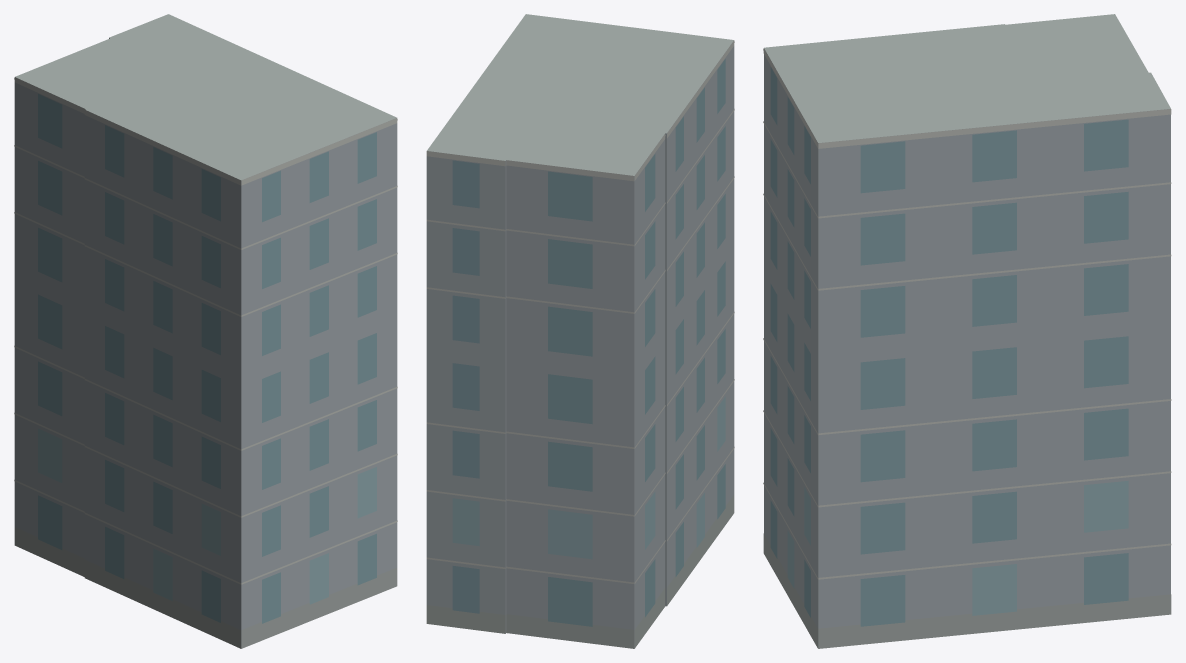
The model's file is survey-upis-32800072.glb.
The picture shows the model from 3 angles, left to right: view 1: azimuth 30°, elevation 25°; view 2: azimuth 150°, elevation 25°; view 3: azimuth 270°, elevation 25°; orthographic projection. The views are drawn at different scales.
Parts seen in each view (by area): view 1: survey-upis-32800072.tmp; view 2: survey-upis-32800072.tmp; view 3: survey-upis-32800072.tmp.
Boxes of the visible parts, x1=… form: survey-upis-32800072.tmp: x1=14, y1=14, x2=397, y2=648; survey-upis-32800072.tmp: x1=426, y1=14, x2=734, y2=648; survey-upis-32800072.tmp: x1=763, y1=14, x2=1171, y2=648.
Size of the model in its own units: 11.74 by 21.4 by 15.65.
